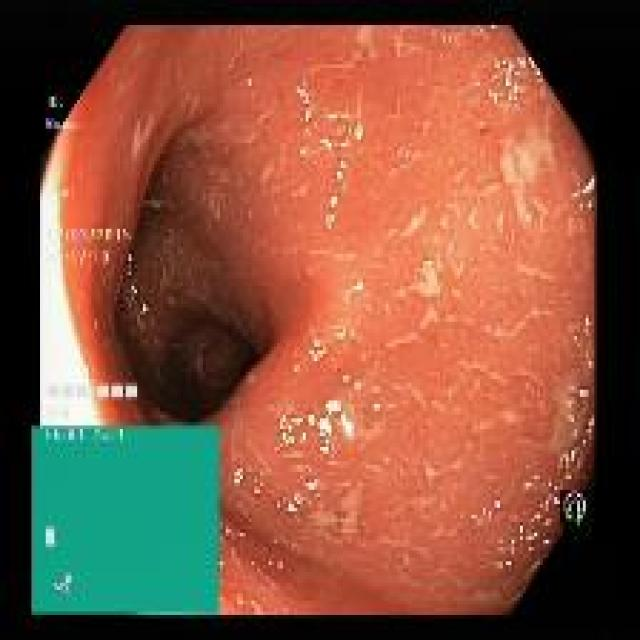ulcerative-colitis: (61, 27, 595, 614)
